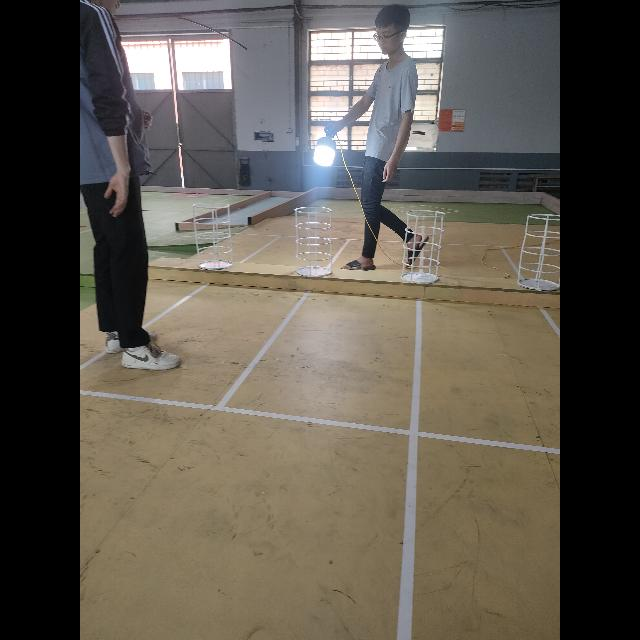S: (514, 213, 560, 293), (400, 208, 447, 286), (191, 200, 236, 272), (294, 205, 335, 278)
